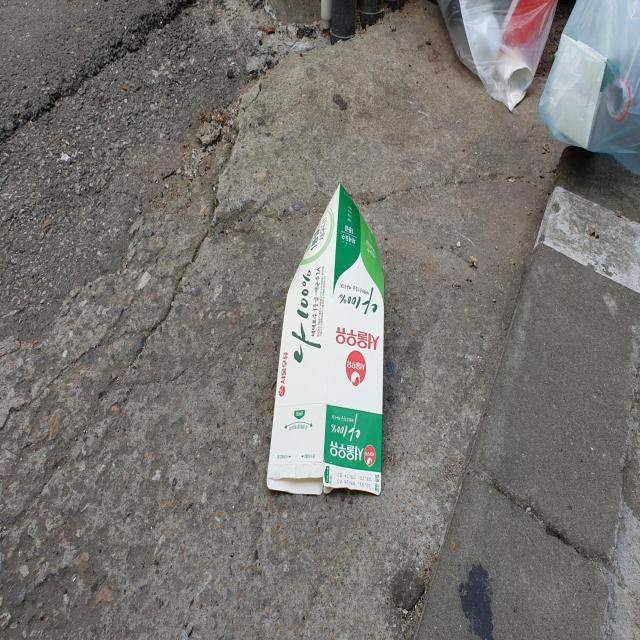paperpack: (267, 183, 384, 494)
